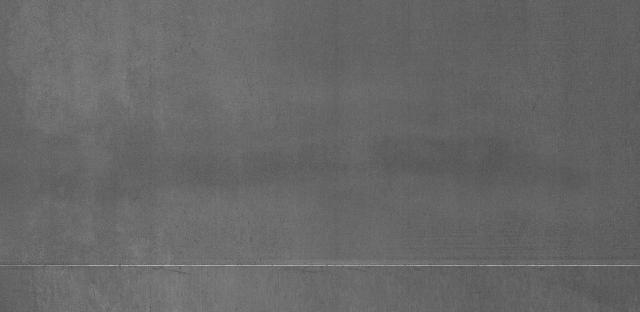welding_line: (1, 252, 640, 277)
